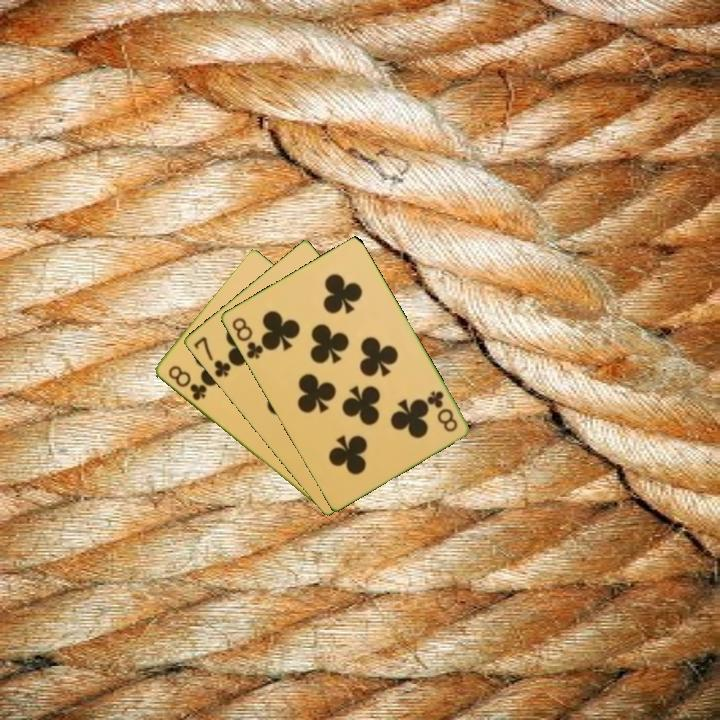7c: (190, 333, 234, 380)
8c: (164, 362, 210, 404), (228, 313, 266, 362), (423, 387, 460, 435)
